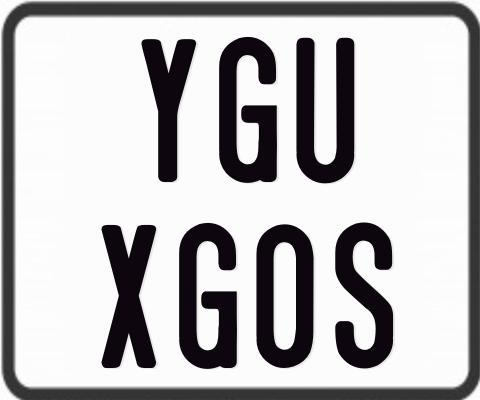0: (253, 222, 311, 367)
G: (178, 221, 242, 373), (219, 34, 282, 185)
S: (334, 220, 393, 369)
U: (293, 35, 357, 181)
X: (99, 225, 158, 370)
Y: (140, 38, 195, 185)
